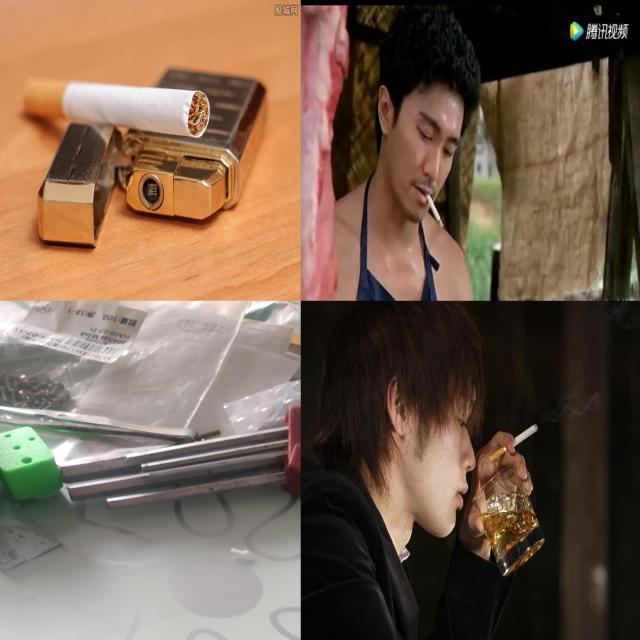smoking: (24, 77, 211, 139), (488, 424, 540, 464), (425, 190, 445, 230)
